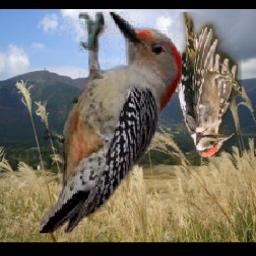Woodpecker: (40, 13, 182, 234), (177, 13, 242, 158)
